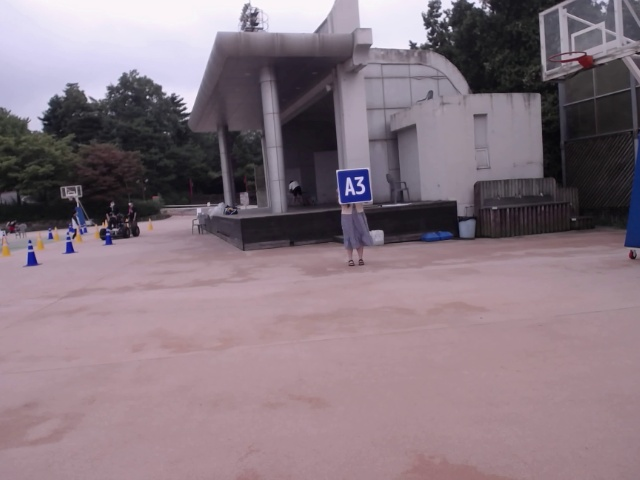delivery_a3: (336, 168, 373, 204)
